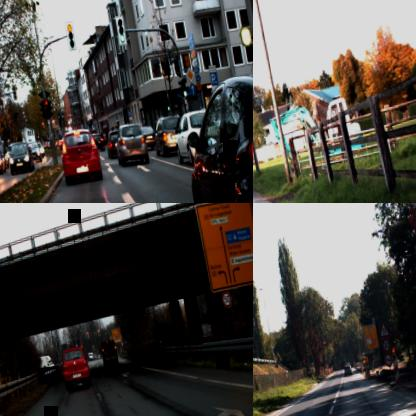go straight: (188, 82, 196, 96)
no overtaking (trucks): (382, 352, 394, 367)
priority road: (183, 64, 196, 83)
road narrows: (376, 317, 390, 338)
speed limit 30: (380, 336, 391, 352)
speed limit 50: (219, 289, 232, 308)
